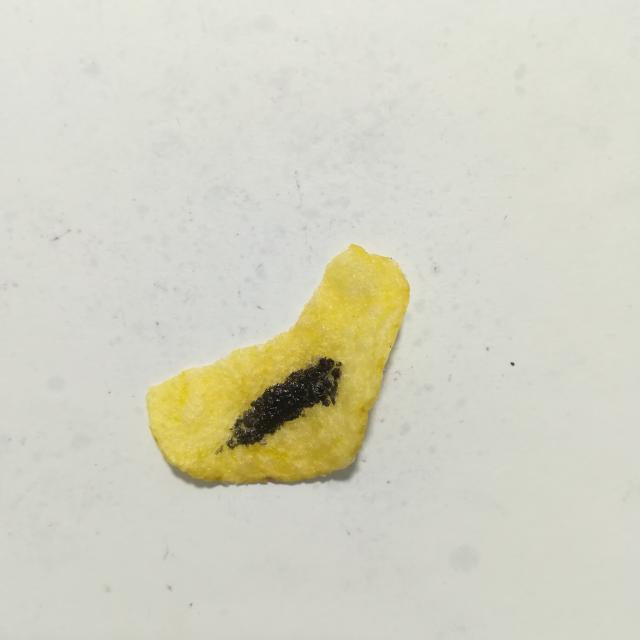chip: (146, 245, 409, 483)
damaged: (225, 356, 342, 449)
semi-damaged: (215, 445, 224, 454)
